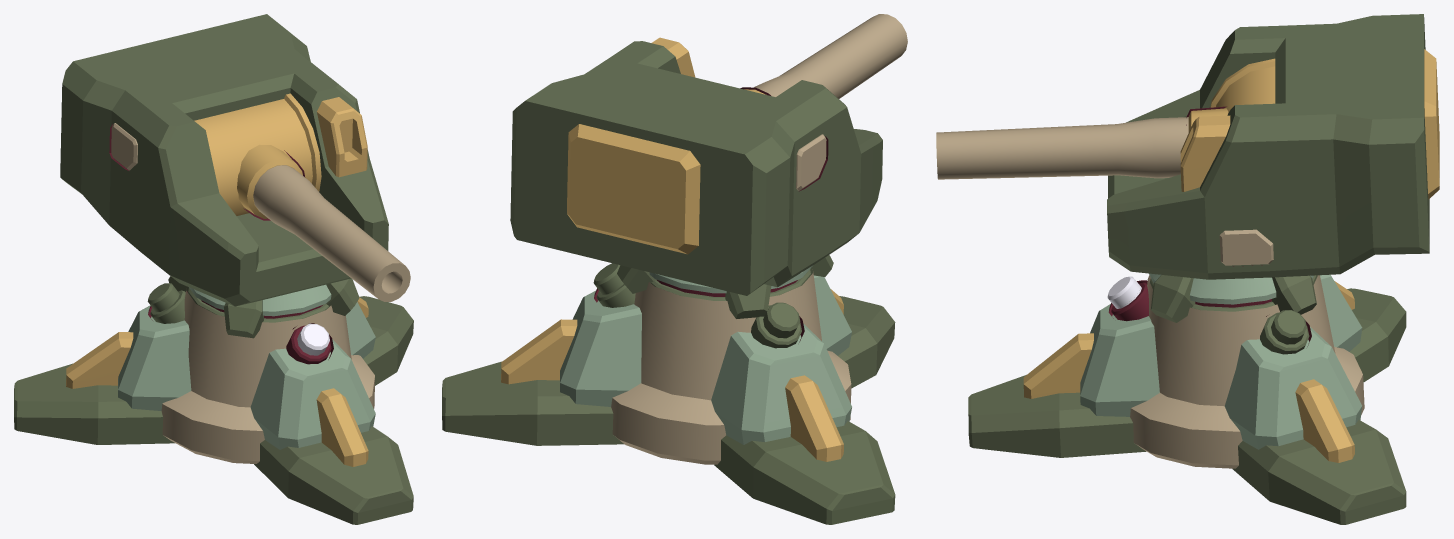
File: Heavy Final 0.1.fbx
The picture shows the model from 3 angles, left to right: view 1: azimuth 30°, elevation 25°; view 2: azimuth 150°, elevation 25°; view 3: azimuth 270°, elevation 25°; orthographic projection. The views are drawn at different scales.
Visible parts, largest first — view 1: trunnion1.009, base1.003, base1.016, trunnion1.003, base1.020, base1.014, trunnion1.001, base1.018, trunnion1.011, base1.012, base1.015, base1.019 (+11 smaller); view 2: trunnion1.009, base1.003, trunnion1.013, base1.020, base1.012, base1.018, base1.008, trunnion1.003, base1.016, base1.019, base1.009, base1.014 (+10 smaller); view 3: trunnion1.009, base1.003, trunnion1.003, base1.012, base1.016, base1.008, base1.014, base1.020, base1.009, base1.015, trunnion1.011, trunnion1.001 (+10 smaller).
Boxes of the visible parts, box(x1,y1,x2,y2) form: trunnion1.009: box(60, 14, 388, 306); base1.003: box(161, 290, 374, 463); base1.016: box(254, 426, 413, 524); trunnion1.003: box(253, 165, 410, 301); base1.020: box(14, 363, 174, 444); base1.014: box(250, 339, 375, 449); trunnion1.001: box(194, 93, 321, 215); base1.018: box(118, 305, 191, 410); trunnion1.011: box(317, 97, 367, 177); base1.012: box(359, 296, 413, 385); base1.015: box(316, 388, 368, 466); base1.019: box(66, 332, 133, 388); trunnion1.009: box(510, 41, 882, 295); base1.003: box(611, 269, 851, 464); trunnion1.013: box(567, 124, 700, 254); base1.020: box(714, 421, 895, 524); base1.012: box(442, 361, 623, 445); base1.018: box(711, 324, 851, 444); base1.008: box(560, 290, 641, 406); trunnion1.003: box(754, 14, 907, 98); base1.016: box(838, 296, 895, 388); base1.019: box(785, 375, 843, 461); base1.009: box(501, 319, 577, 384); base1.014: box(813, 275, 851, 355); trunnion1.009: box(1107, 14, 1429, 279); base1.003: box(1130, 275, 1364, 468); trunnion1.003: box(936, 117, 1188, 179); base1.012: box(1232, 419, 1406, 524); base1.016: box(968, 374, 1146, 457); base1.008: box(1224, 327, 1362, 449); base1.014: box(1080, 304, 1159, 416); base1.020: box(1347, 288, 1406, 382); base1.009: box(1295, 379, 1354, 462); base1.015: box(1023, 333, 1093, 398); trunnion1.011: box(1180, 115, 1230, 191); trunnion1.001: box(1210, 58, 1275, 113).
Size of the model in its own units: 1470 by 1168 by 1471.
